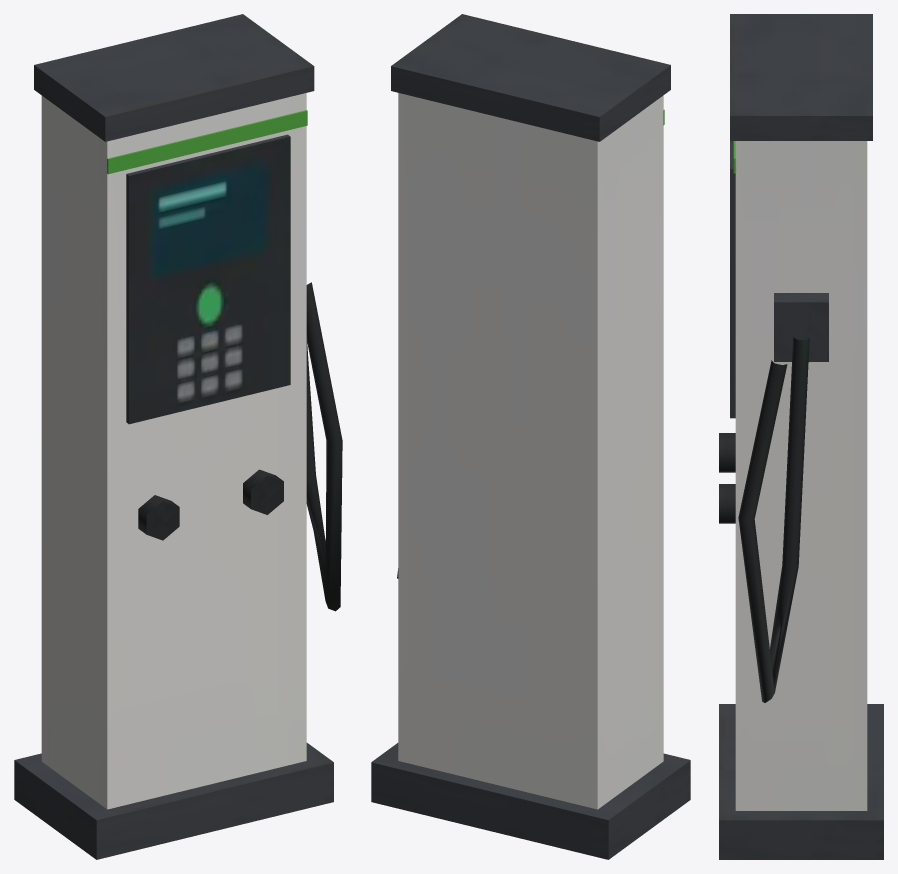
File: borne_recharge_lod1.glb
3 views of the same model, side by side, from view 1: azimuth 30°, elevation 25°; view 2: azimuth 150°, elevation 25°; view 3: azimuth 270°, elevation 25° (orthographic).
Parts seen in each view (by area): view 1: borne_recharge; view 2: borne_recharge; view 3: borne_recharge.
Part boxes in pixels (x1=…): borne_recharge: x1=14, y1=14, x2=342, y2=859; borne_recharge: x1=371, y1=14, x2=690, y2=859; borne_recharge: x1=719, y1=14, x2=883, y2=859.
Size of the model in its own units: 0.5635 by 1.48 by 0.3.
Materials: 1 (1 with a texture image).
